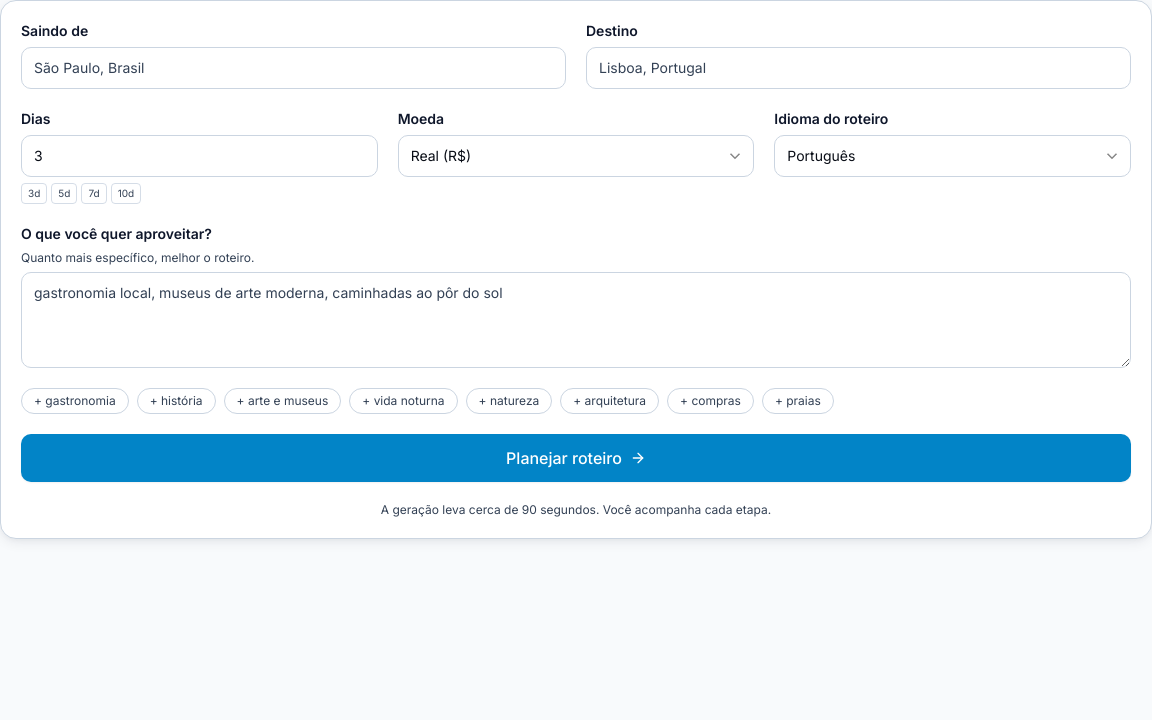
Test: BriefingForm › bloqueia o envio e mostra erro quando falta o destino
Type "São Paulo" into the field labelled "Saindo de" at (294, 68), box x1=21 y1=47 x2=566 y2=89
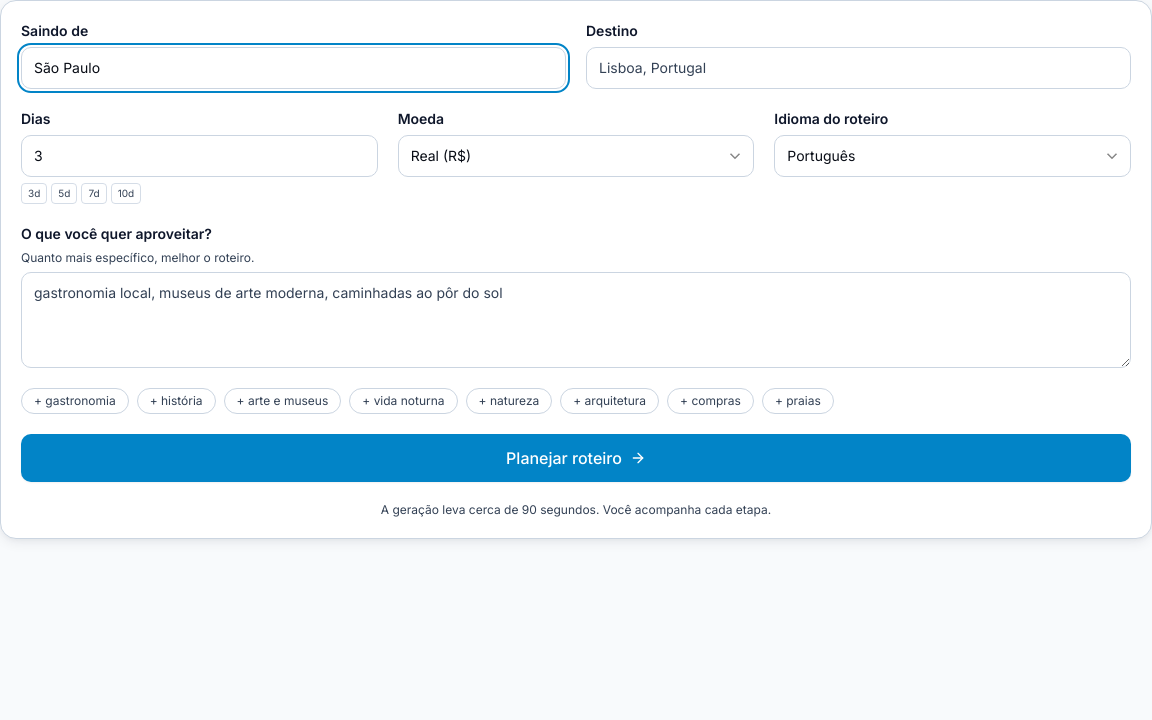
Click the button "Planejar roteiro" at (576, 458), box x1=21 y1=434 x2=1131 y2=482
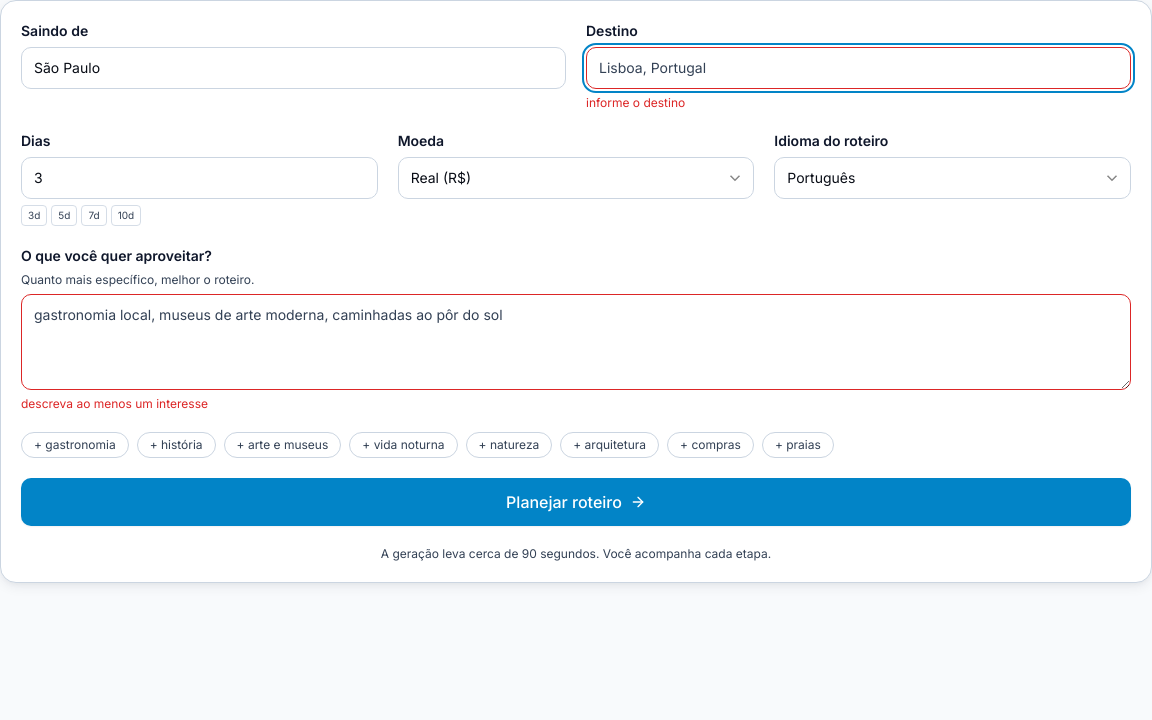
Expected: the text "informe o destino" is shown, x1=586 y1=95 x2=685 y2=110
